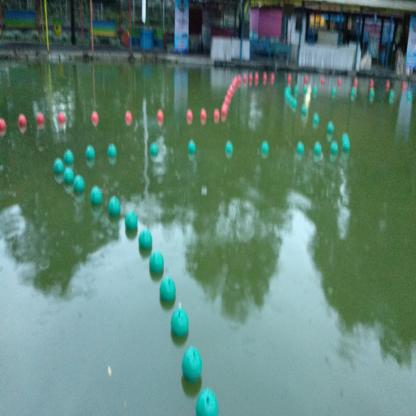green_buoy: (182, 347, 204, 386), (174, 308, 189, 346), (195, 393, 217, 416), (162, 277, 177, 309), (124, 210, 139, 240), (149, 251, 165, 279), (110, 196, 124, 226), (338, 136, 352, 165), (138, 228, 153, 254), (90, 188, 104, 214), (74, 177, 87, 204), (309, 140, 323, 163), (295, 142, 306, 167), (224, 140, 235, 162), (259, 140, 270, 161), (106, 146, 118, 164), (64, 149, 74, 170), (328, 138, 337, 160), (64, 170, 74, 189), (188, 140, 197, 161), (87, 145, 96, 166), (150, 142, 160, 159), (56, 158, 63, 182), (328, 124, 335, 142), (314, 114, 322, 128), (300, 105, 307, 120)
red_buoy: (16, 108, 28, 138), (53, 108, 67, 132), (36, 110, 46, 134), (90, 108, 99, 127), (124, 110, 134, 126), (198, 110, 207, 124), (186, 110, 194, 122), (158, 108, 164, 122), (213, 107, 218, 122)
